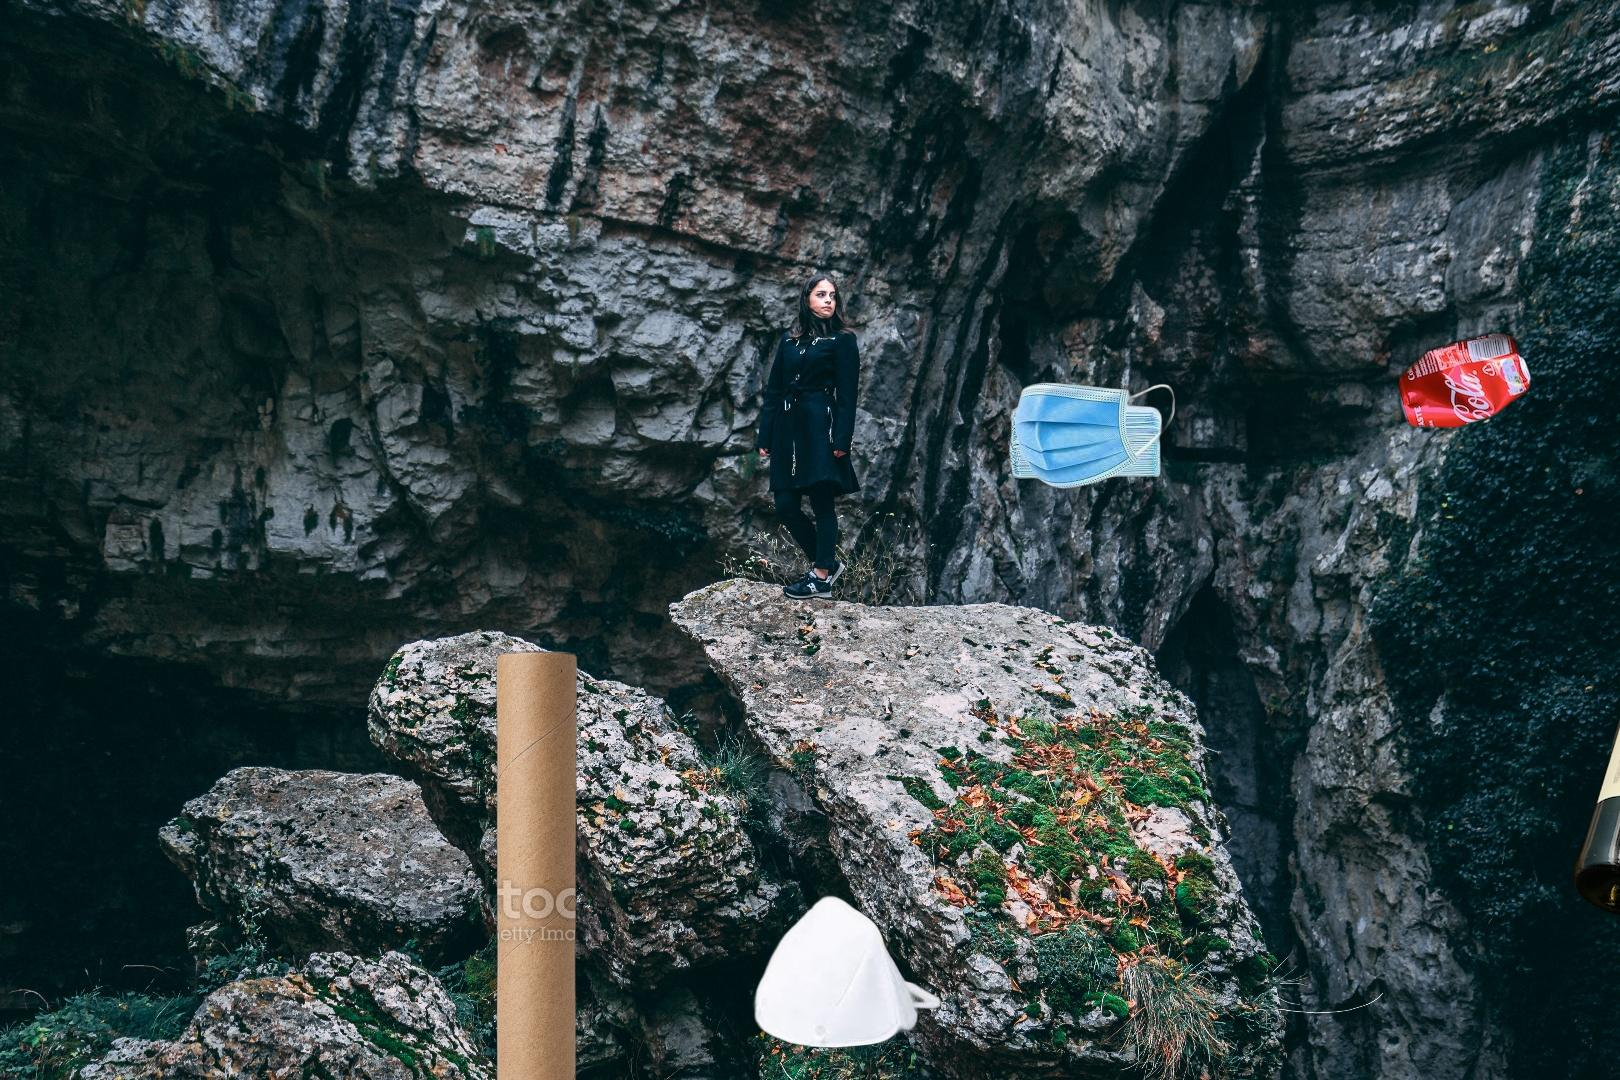glass: (1569, 633, 1620, 922)
metal-cans: (1393, 327, 1536, 434)
trash: (750, 894, 944, 1051), (1006, 369, 1178, 492)
trashbox-cardboard: (494, 646, 580, 1080)
